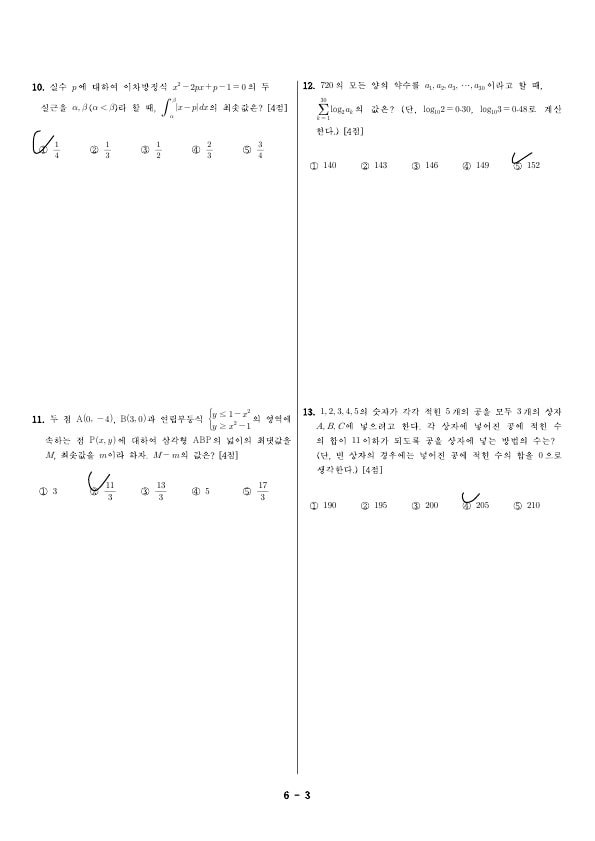question: (299, 400, 567, 524), (294, 73, 569, 185), (22, 402, 295, 505), (19, 74, 296, 168)
